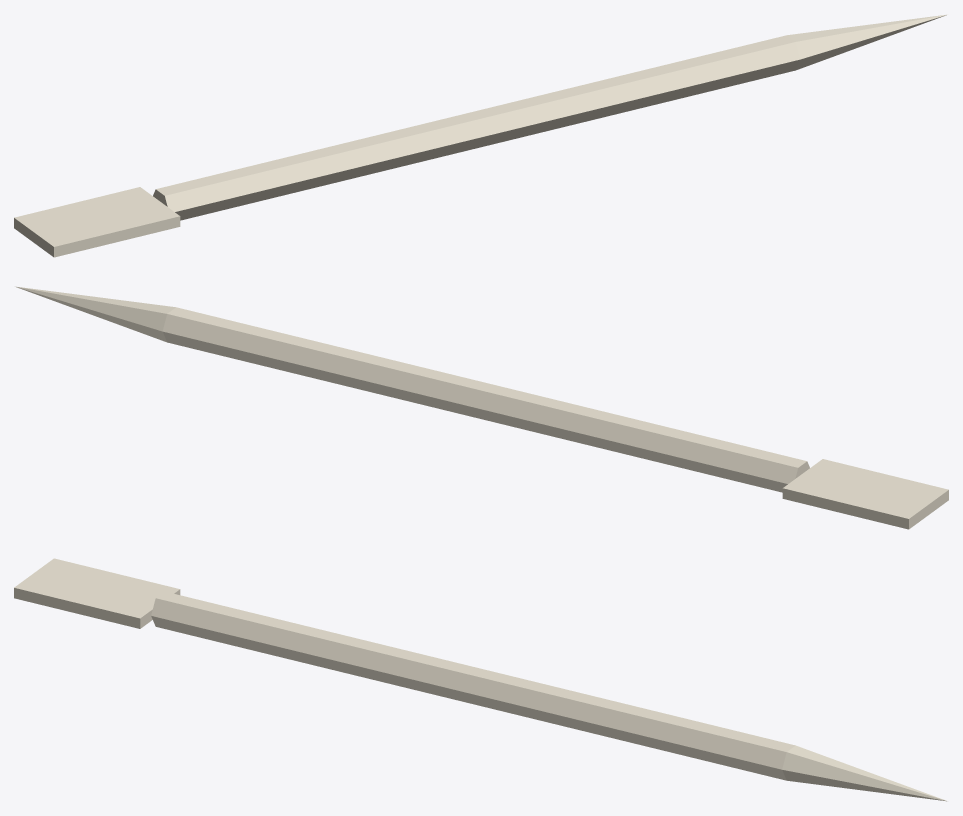
File: prop-stylus-blank.fbx
3 views of the same model, one above another, from view 1: azimuth 30°, elevation 25°; view 2: azimuth 150°, elevation 25°; view 3: azimuth 330°, elevation 25° (orthographic).
Visible parts, largest first — view 1: prop-stylus-blank; view 2: prop-stylus-blank; view 3: prop-stylus-blank.
Part boxes in pixels (<box>): prop-stylus-blank: <box>14,14,947,257</box>; prop-stylus-blank: <box>15,286,948,529</box>; prop-stylus-blank: <box>14,558,947,801</box>.
Bounding box in the file's own units: 14.5 × 0.433 × 1.1.
